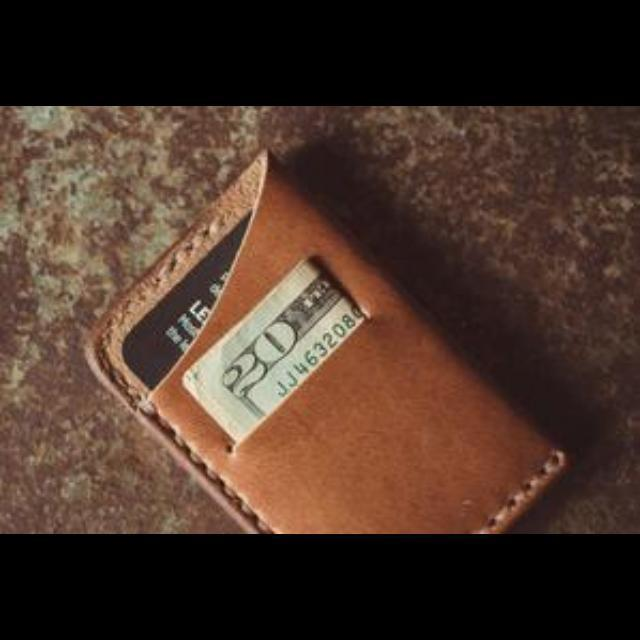wallet: (86, 148, 574, 530)
